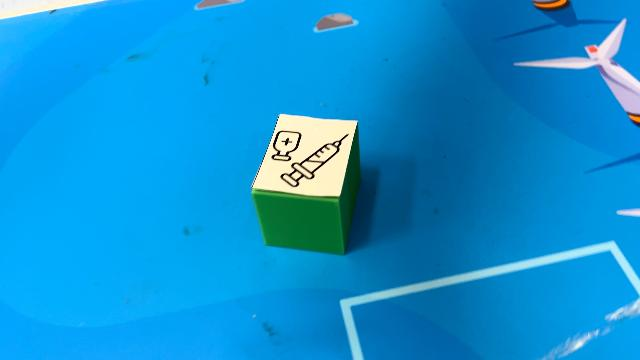syringe: (250, 113, 362, 255)
